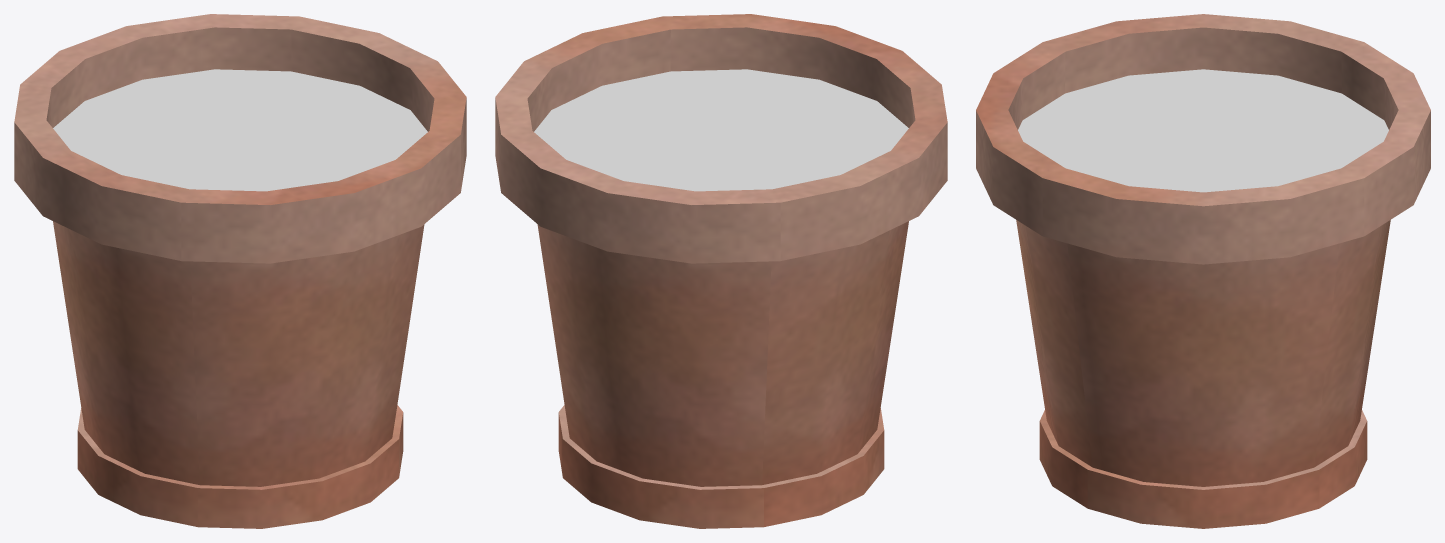
Rendered from pot1.fbx.
The picture shows the model from 3 angles, left to right: view 1: azimuth 30°, elevation 25°; view 2: azimuth 150°, elevation 25°; view 3: azimuth 270°, elevation 25°; orthographic projection.
Parts seen in each view (by area): view 1: Pot.002; view 2: Pot.002; view 3: Pot.002.
Boxes of the visible parts, x1,y1,x2,y2 form: Pot.002: (14,14,466,528); Pot.002: (495,14,947,528); Pot.002: (976,14,1430,528).
Bounding box in the file's own units: 2.71 × 2.3 × 2.71.
